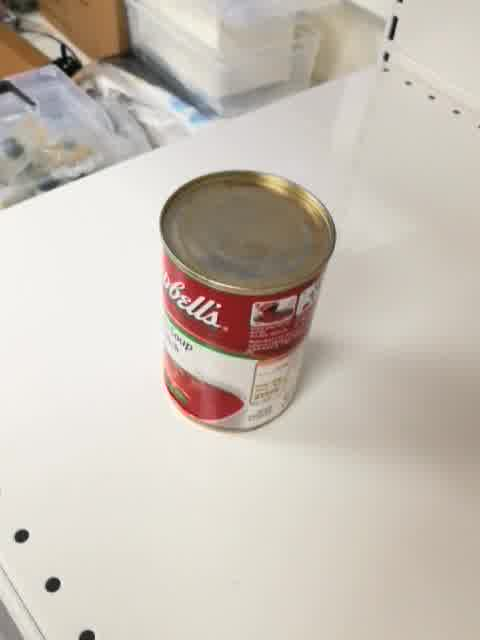tomatosoup: (156, 169, 337, 434)
